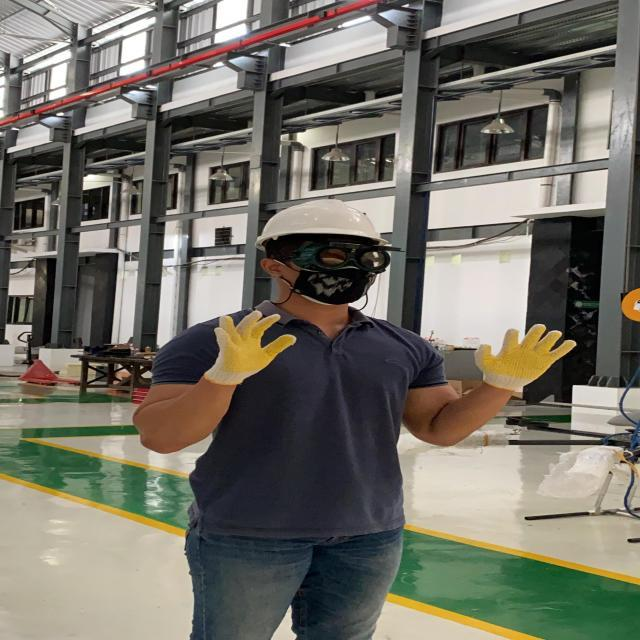glasses: (264, 239, 406, 273)
